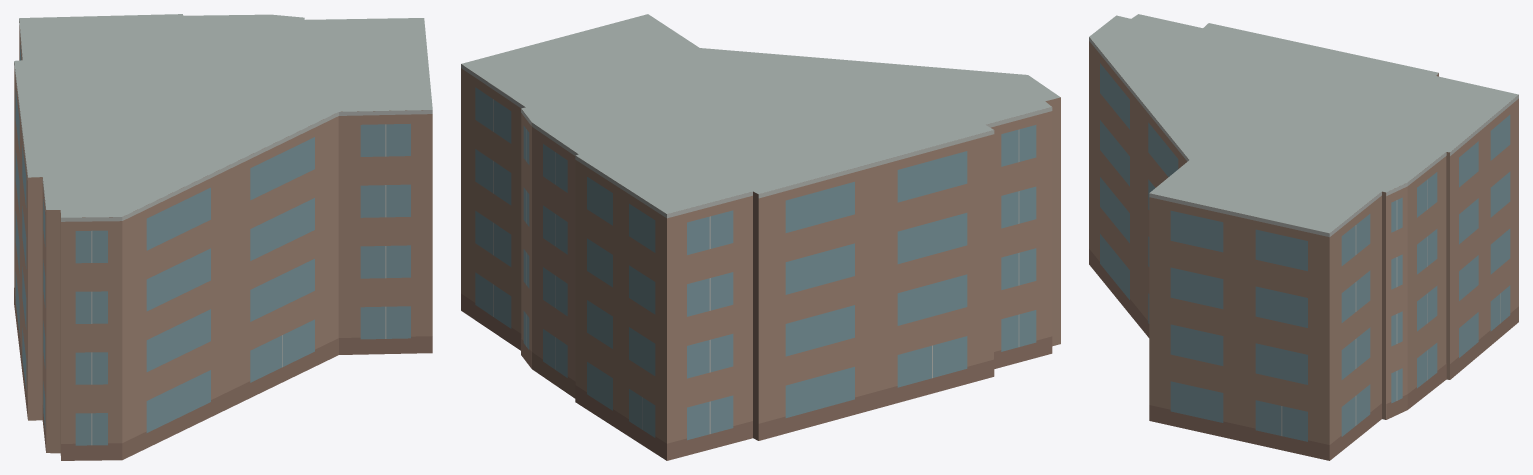
The model's file is survey-upis-32952713.glb.
3 views of the same model, side by side, from view 1: azimuth 30°, elevation 25°; view 2: azimuth 150°, elevation 25°; view 3: azimuth 270°, elevation 25° (orthographic). The views are drawn at different scales.
Parts seen in each view (by area): view 1: survey-upis-32952713.tmp; view 2: survey-upis-32952713.tmp; view 3: survey-upis-32952713.tmp.
Boxes of the visible parts, <box> form: survey-upis-32952713.tmp: <box>14,14,432,460</box>; survey-upis-32952713.tmp: <box>461,14,1060,460</box>; survey-upis-32952713.tmp: <box>1089,14,1518,460</box>.
Size of the model in its own units: 29.56 by 14.3 by 24.48.
